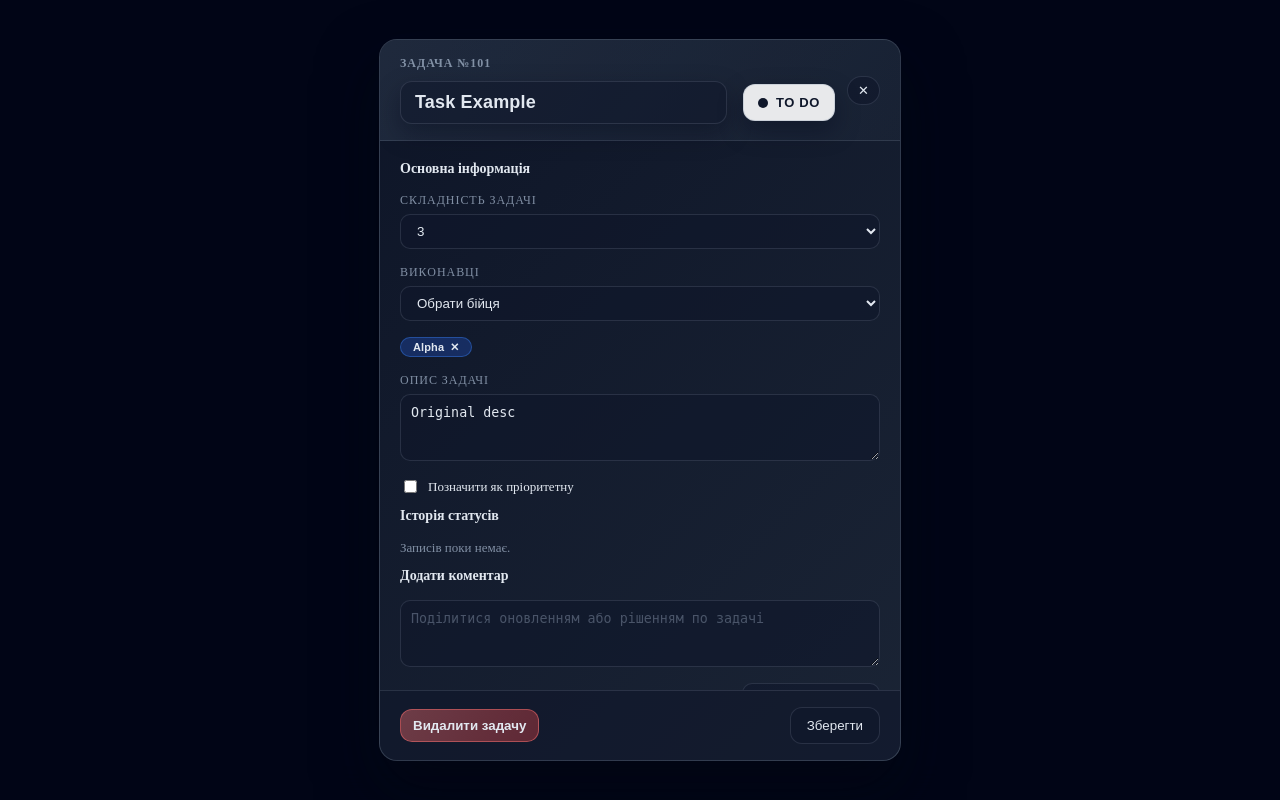
Test: TaskViewModal › closes status menu on outside click
Expected: the field with placeholder "Назва задачі" is shown, [400,81,727,124]
Click the button "To Do" at (789, 102), box [743,84,835,121]
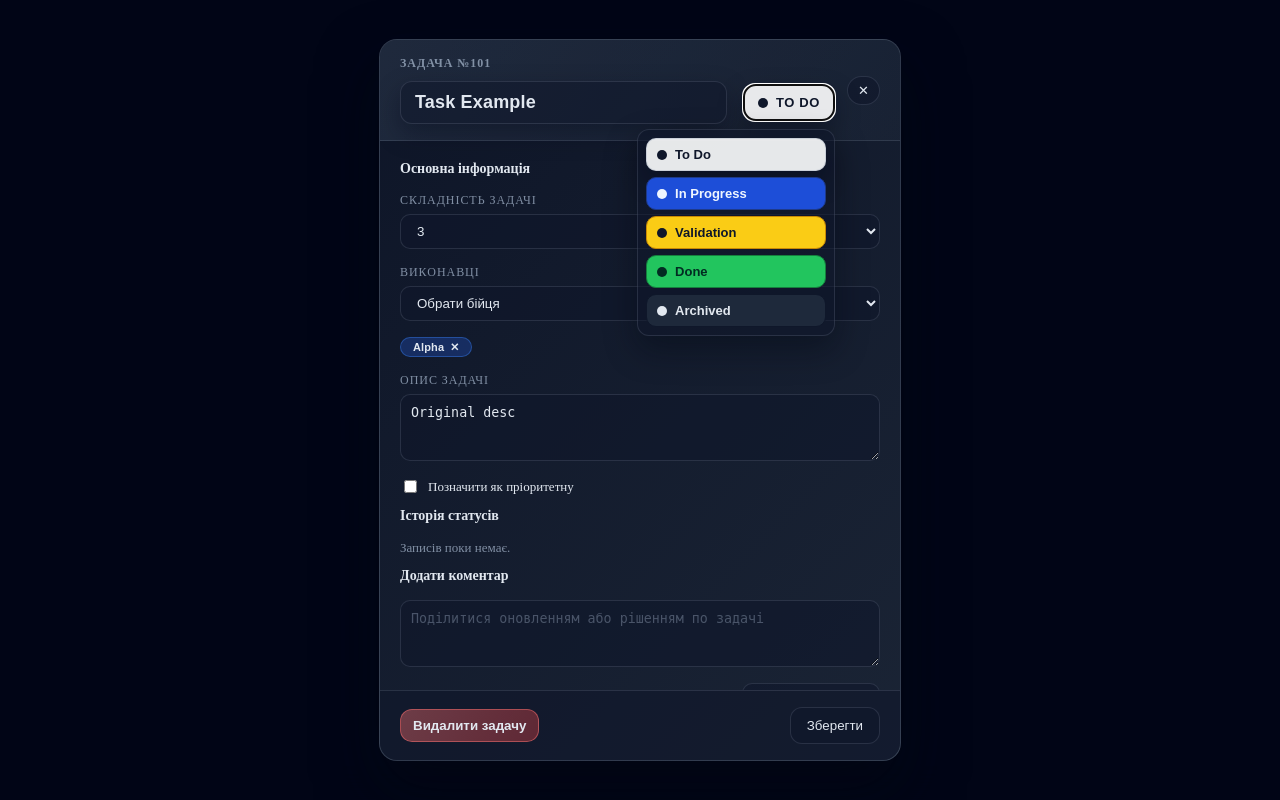
Expected: the button "In Progress" is shown, [646,177,826,210]
Press the mouse on the element that starts with "Задача №" at (640, 400), box [0,0,1279,799]
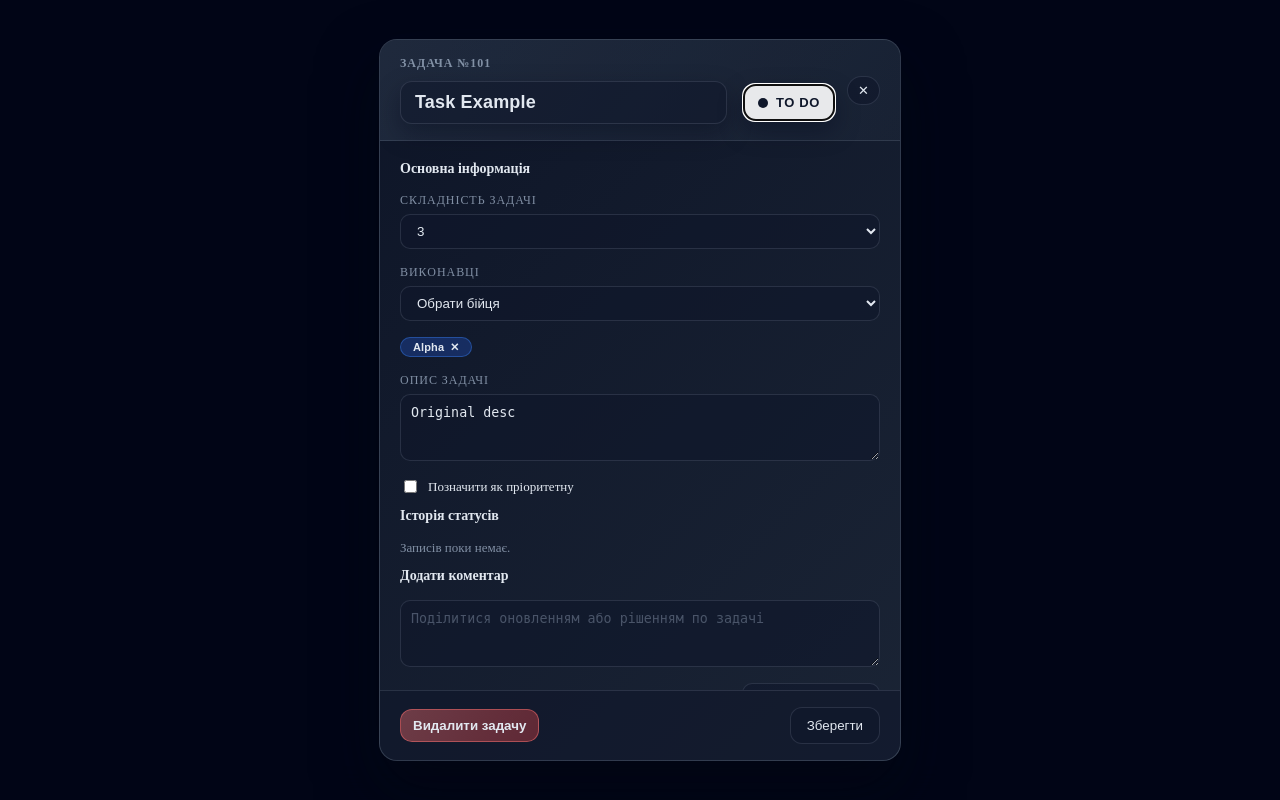
Expected: the button "In Progress" is gone
